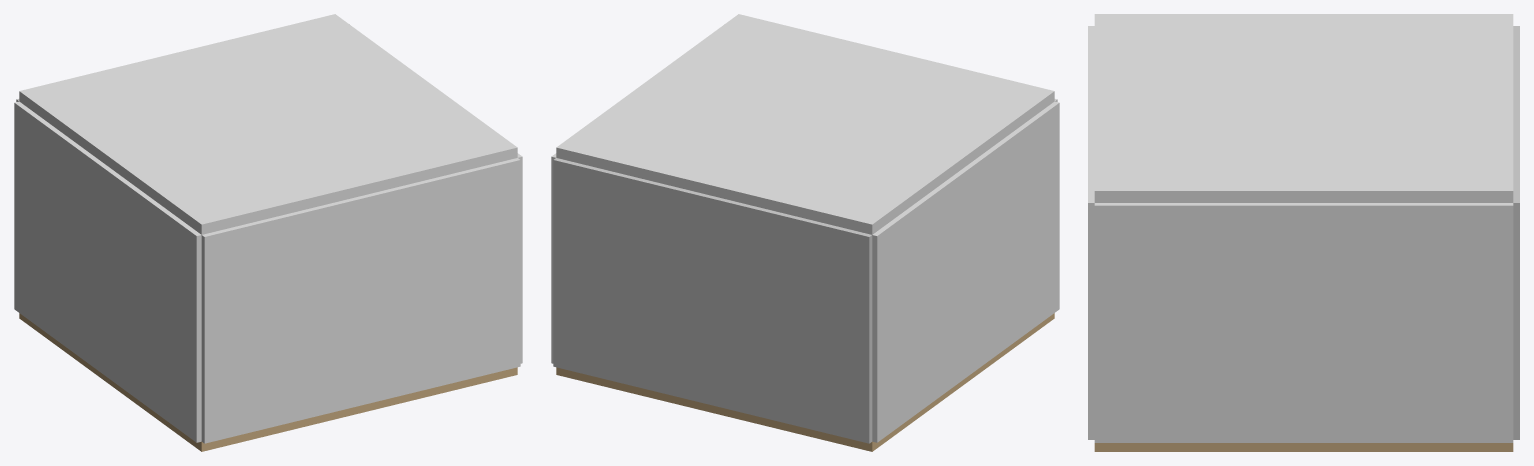
Rendered from room.dae.
3 views of the same model, side by side, from view 1: azimuth 30°, elevation 25°; view 2: azimuth 150°, elevation 25°; view 3: azimuth 270°, elevation 25° (orthographic). The views are drawn at different scales.
Parts seen in each view (by area): view 1: Cube_002, Cube_005, Cube, Cube_004, Cube_001; view 2: Cube_003, Cube_005, Cube, Cube_004, Cube_001; view 3: Cube_001, Cube_005, Cube_004, Cube_002, Cube_003.
Boxes of the visible parts, left/top/right/bottom form: Cube_002: left=201, top=158, right=520, bottom=443; Cube_005: left=19, top=14, right=517, bottom=234; Cube: left=14, top=101, right=201, bottom=442; Cube_004: left=19, top=313, right=517, bottom=451; Cube_001: left=517, top=153, right=522, bottom=363; Cube_003: left=553, top=158, right=872, bottom=443; Cube_005: left=556, top=14, right=1054, bottom=234; Cube: left=872, top=101, right=1059, bottom=442; Cube_004: left=556, top=313, right=1054, bottom=451; Cube_001: left=551, top=153, right=556, bottom=363; Cube_001: left=1094, top=203, right=1513, bottom=442; Cube_005: left=1094, top=14, right=1513, bottom=202; Cube_004: left=1094, top=443, right=1513, bottom=451; Cube_002: left=1088, top=26, right=1094, bottom=439; Cube_003: left=1513, top=26, right=1519, bottom=439.
Bounding box in the file's own units: 4.12 × 4.13 × 2.75.
